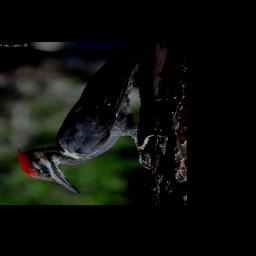Woodpecker: (16, 43, 154, 195)
